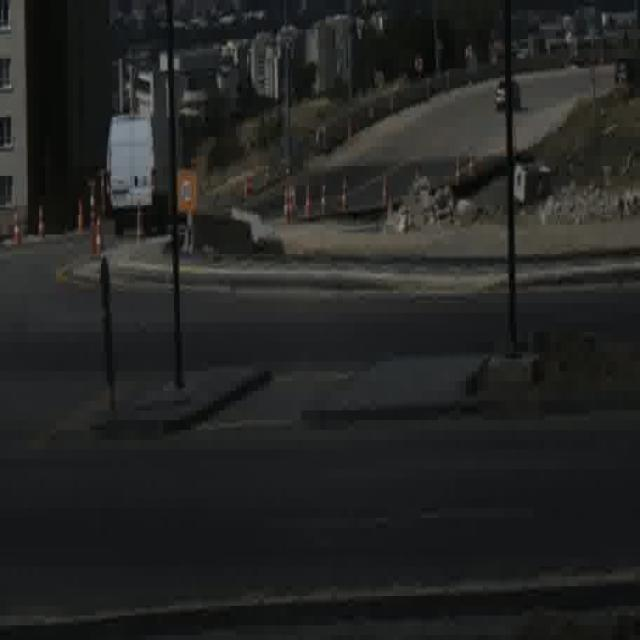Car: (102, 115, 184, 237), (496, 80, 522, 114), (614, 56, 637, 84)
